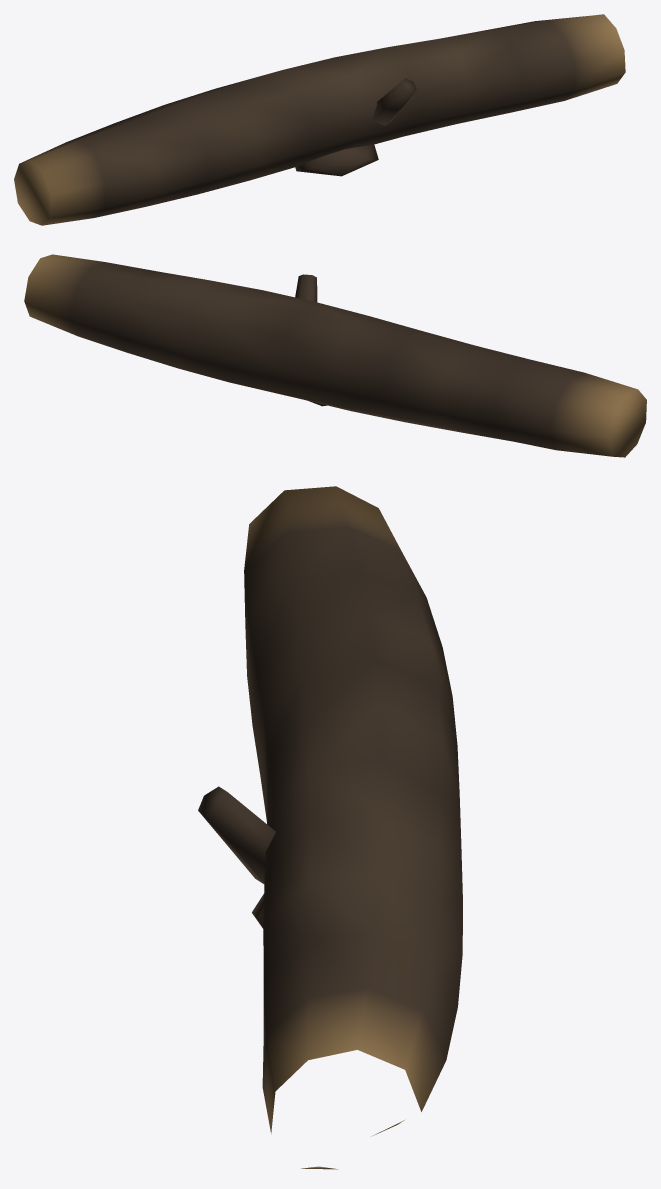
The model's file is fallen_log_dry.glb.
The picture shows the model from 3 angles, top to bottom: view 1: azimuth 30°, elevation 25°; view 2: azimuth 150°, elevation 25°; view 3: azimuth 270°, elevation 25°; orthographic projection. The views are drawn at different scales.
Visible parts, largest first — view 1: fallen_log_dry; view 2: fallen_log_dry; view 3: fallen_log_dry.
Part boxes in pixels (<box>): fallen_log_dry: <box>14,14,625,225</box>; fallen_log_dry: <box>24,254,646,457</box>; fallen_log_dry: <box>198,486,462,1169</box>.
Bounding box in the file's own units: 6.08 × 0.8568 × 1.15.
